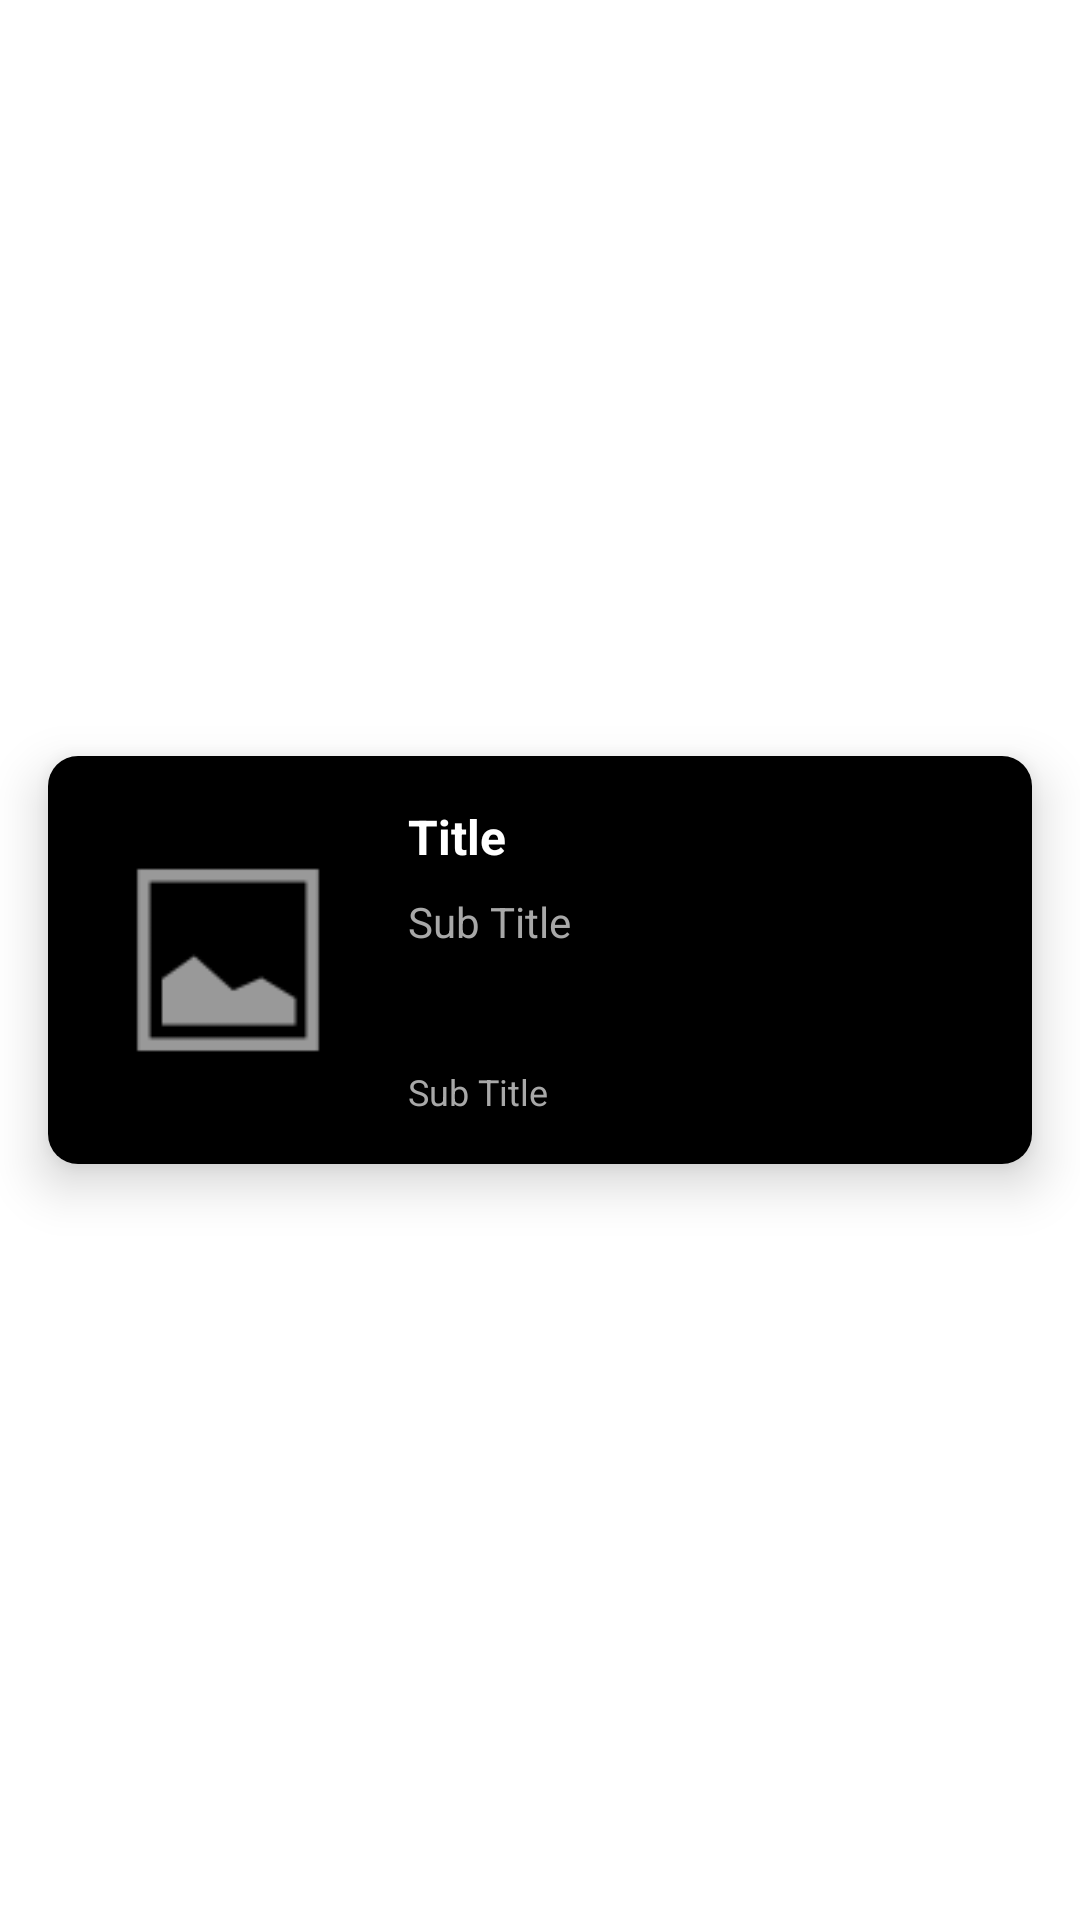

Locate icon controls on the screen. Image size 1080px×1920px, boxes as (x1, y1, x2, y2).
gallery: (136, 868, 320, 1052)
